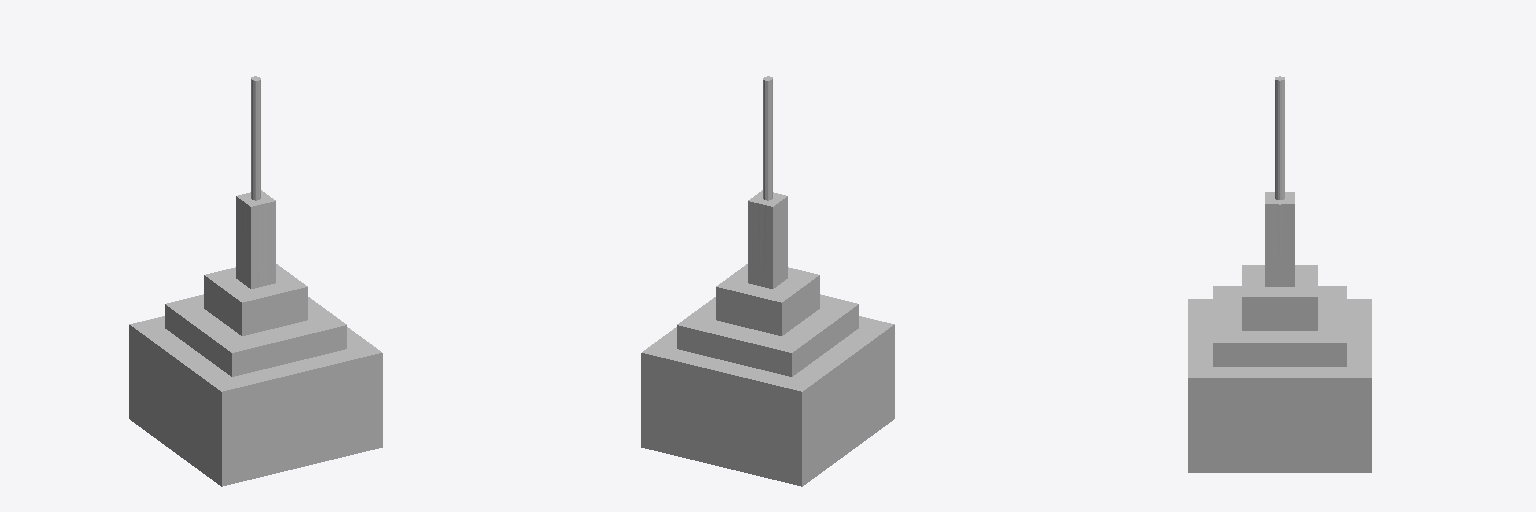
The model's file is skyscraper_roof.obj.
3 views of the same model, side by side, from view 1: azimuth 30°, elevation 25°; view 2: azimuth 150°, elevation 25°; view 3: azimuth 270°, elevation 25° (orthographic).
Visible parts, largest first — view 1: pCube11; view 2: pCube11; view 3: pCube11.
Part boxes in pixels (bbox=[...]): pCube11: bbox=[129, 76, 382, 486]; pCube11: bbox=[641, 76, 894, 486]; pCube11: bbox=[1188, 76, 1371, 472].
Size of the model in its own units: 1.22 by 2.57 by 1.21.